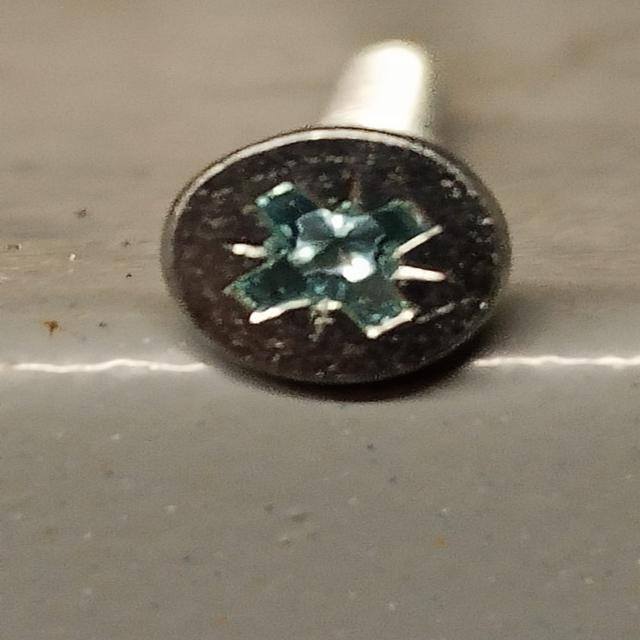pozidriv: (156, 127, 512, 389)
